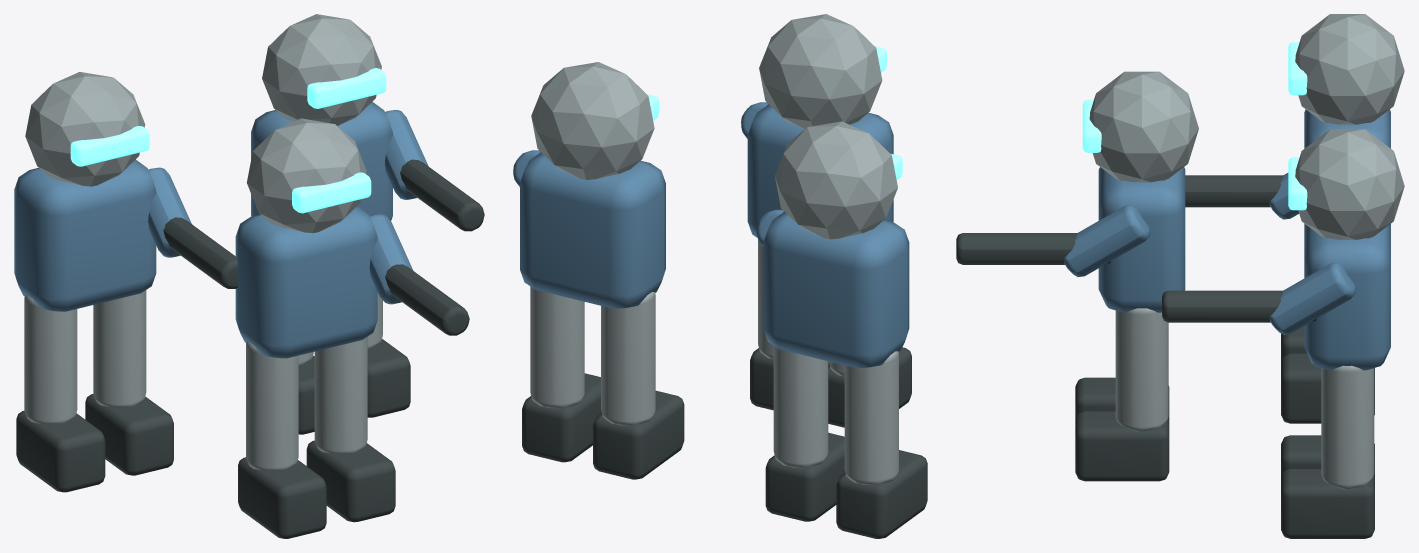
Rendered from infantry.glb.
The picture shows the model from 3 angles, left to right: view 1: azimuth 30°, elevation 25°; view 2: azimuth 150°, elevation 25°; view 3: azimuth 270°, elevation 25°; orthographic projection. The views are drawn at different scales.
Visible parts, largest first — view 1: Body armor, Body armor.002, Helmet, Helmet.002, Helmet.001, Leg, Leg.004, Leg.001, Leg.005, Armored boot, Armored boot.004, Armored boot.005 (+13 smaller); view 2: Body armor, Body armor.001, Helmet.001, Helmet, Helmet.002, Leg.002, Leg, Leg.001, Leg.003, Armored boot.002, Armored boot, Body armor.002 (+5 smaller); view 3: Helmet.002, Helmet.001, Helmet, Body armor.001, Body armor.002, Leg.003, Leg.005, Armored boot.005, Armored boot.003, Rifle.001, Rifle.002, Arm.002 (+11 smaller).
Boxes of the visible parts, x1,y1,x2,y2 form: Body armor: (14,159,156,311); Body armor.002: (235,206,377,358); Helmet: (25,72,145,186); Helmet.002: (247,118,366,233); Helmet.001: (262,14,381,125); Leg: (24,295,77,423); Leg.004: (246,342,298,470); Leg.001: (93,290,146,407); Leg.005: (314,337,367,453); Armored boot: (16,411,105,492); Armored boot.004: (238,457,326,538); Armored boot.005: (306,440,395,522); Body armor: (763,211,909,368); Body armor.001: (520,152,665,308); Helmet.001: (531,62,654,179); Helmet: (774,121,897,239); Helmet.002: (759,14,882,129); Leg.002: (601,292,655,425); Leg: (844,351,898,484); Leg.001: (773,346,828,467); Leg.003: (530,286,584,408); Armored boot.002: (593,390,684,479); Armored boot: (836,450,927,538); Body armor.002: (747,104,893,237); Helmet.002: (1089,71,1198,182); Helmet.001: (1295,129,1404,239); Helmet: (1295,14,1404,124); Body armor.001: (1304,224,1390,370); Body armor.002: (1098,167,1185,312); Leg.003: (1321,365,1374,488); Leg.005: (1115,308,1168,431); Armored boot.005: (1075,411,1169,481); Armored boot.003: (1281,468,1374,538); Rifle.001: (1162,290,1316,322); Rifle.002: (956,233,1110,264); Arm.002: (1063,205,1149,277).
Bounding box in the file's own units: 1.75 × 1.7 × 1.81.
